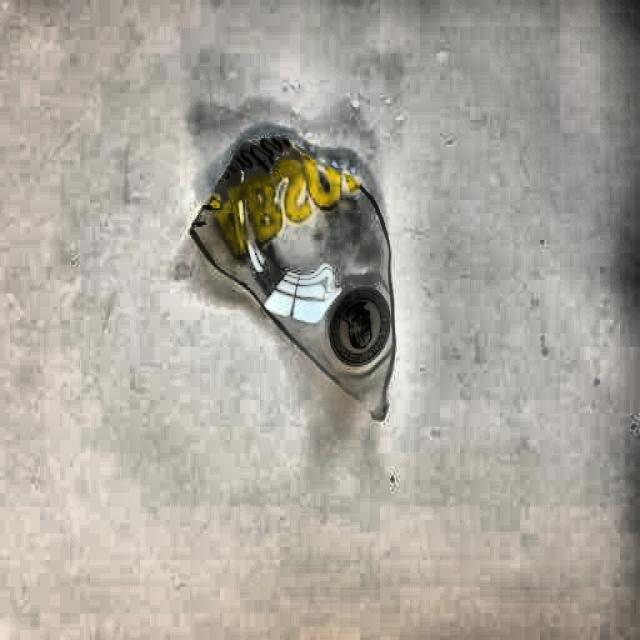glass: (188, 131, 396, 424)
